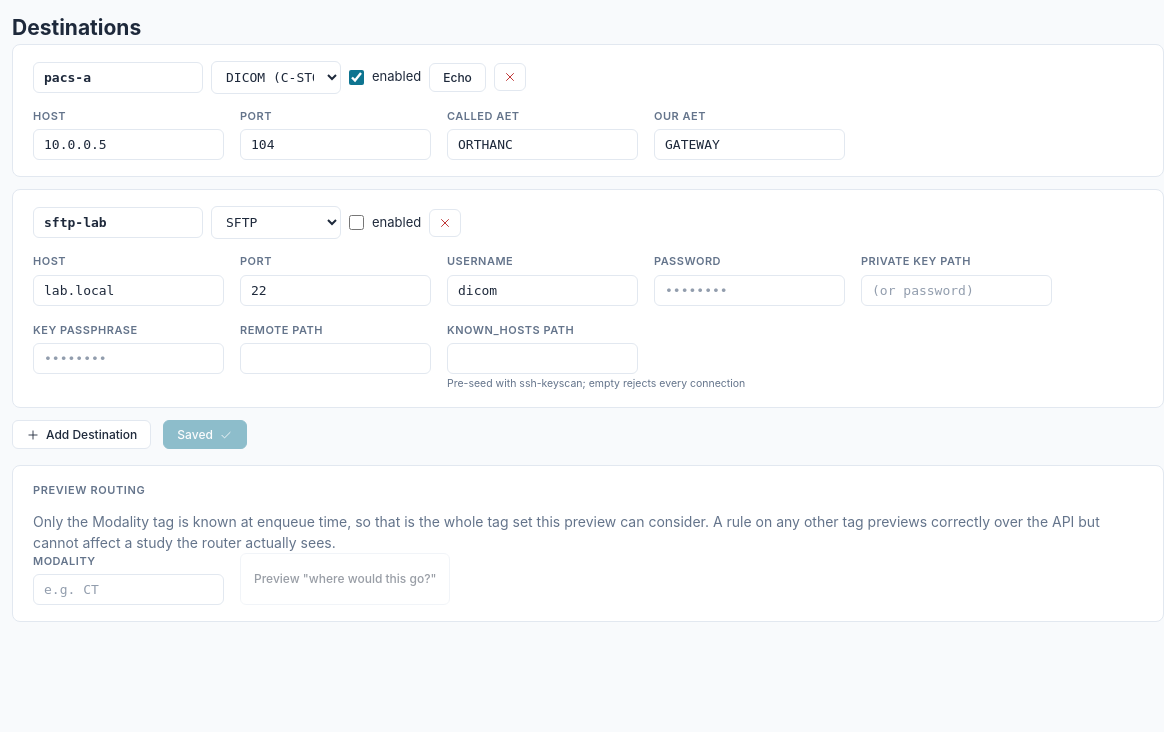
Test: DestinationsView › offers the Echo probe only where the answer can be trusted (plaintext dicom)
Expected: the 1st field showing "pacs-a" is shown, [33,62,203,92]
Step 1. Select "DICOM over TLS" in the 1st dropdown named "Destination type" → [276, 77], box [211,60,341,94]
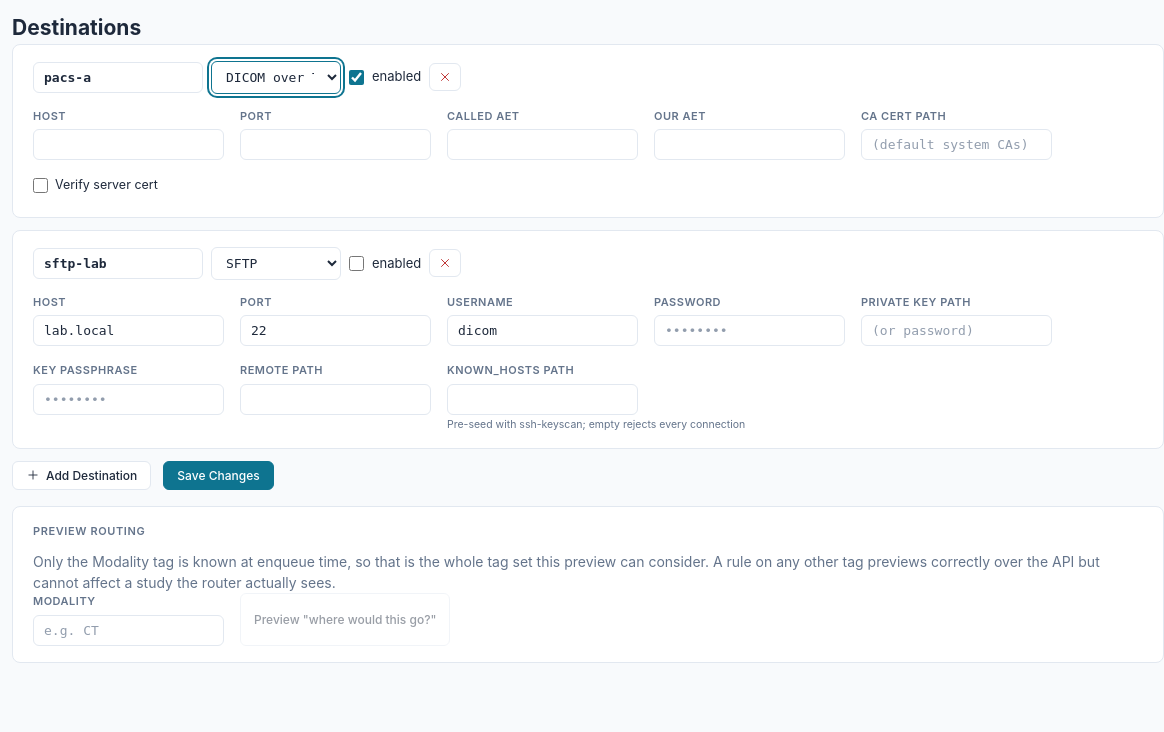
Expected: the button "Echo" is gone
